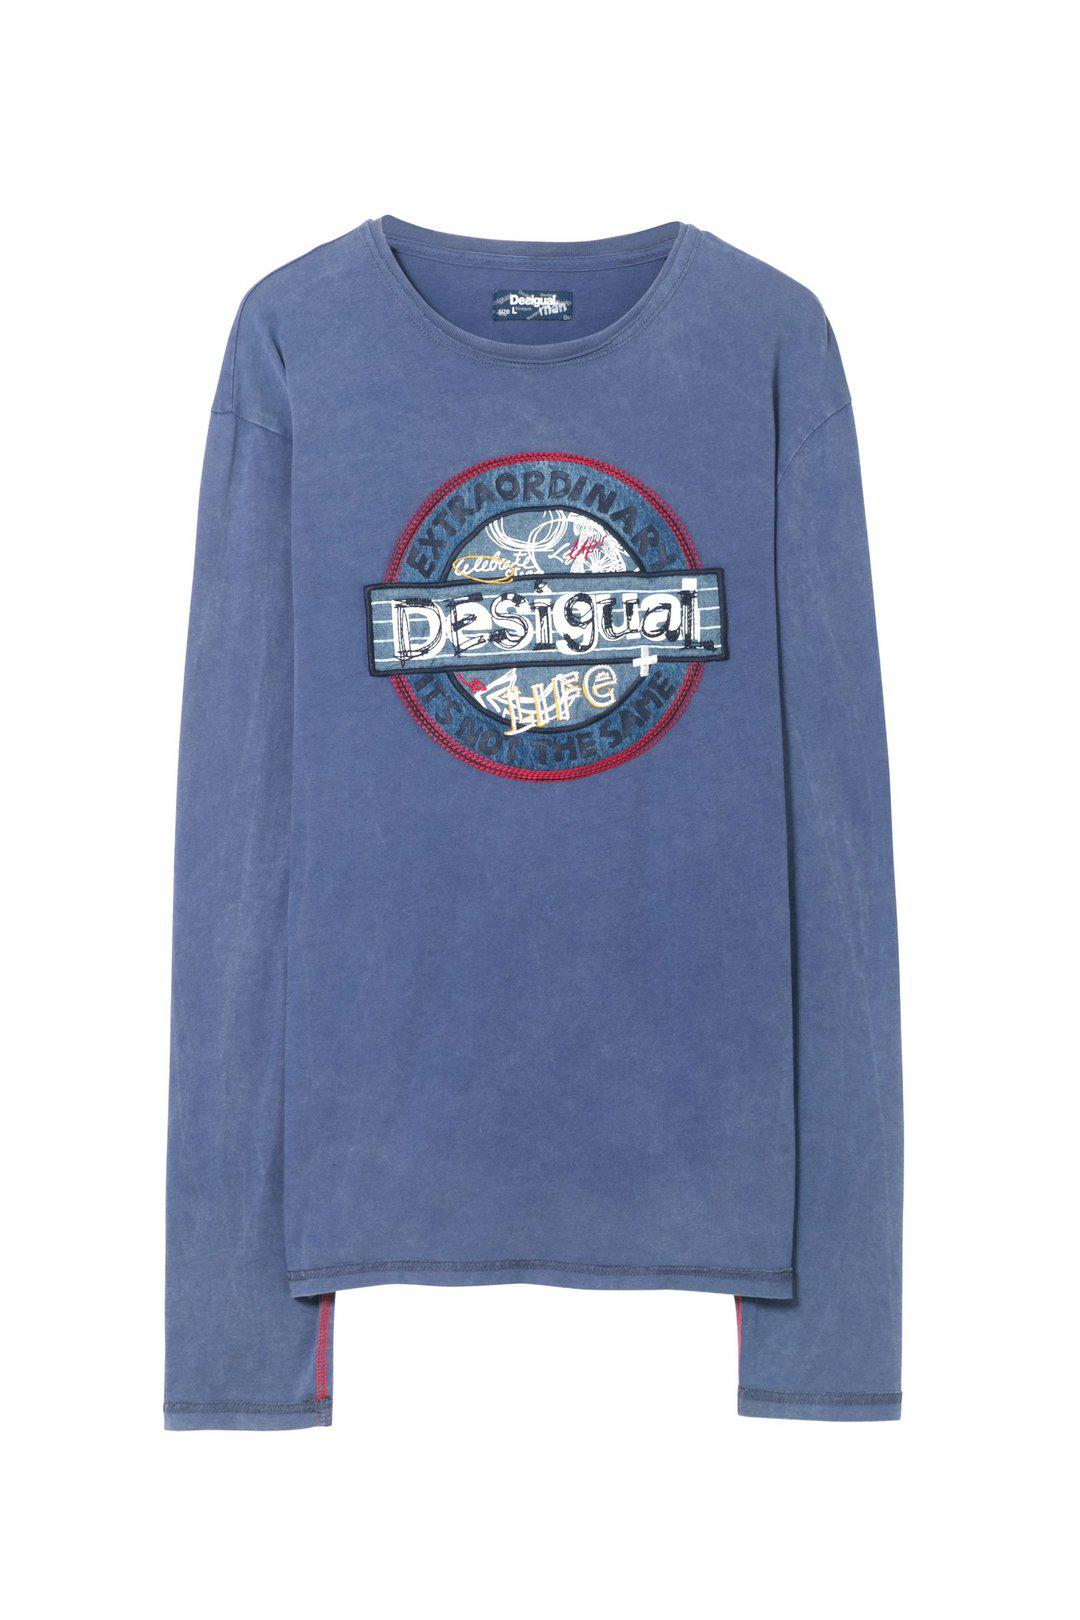teeshirt: (86, 195, 953, 1442)
